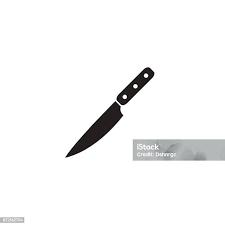Knife: (64, 66, 154, 157)
